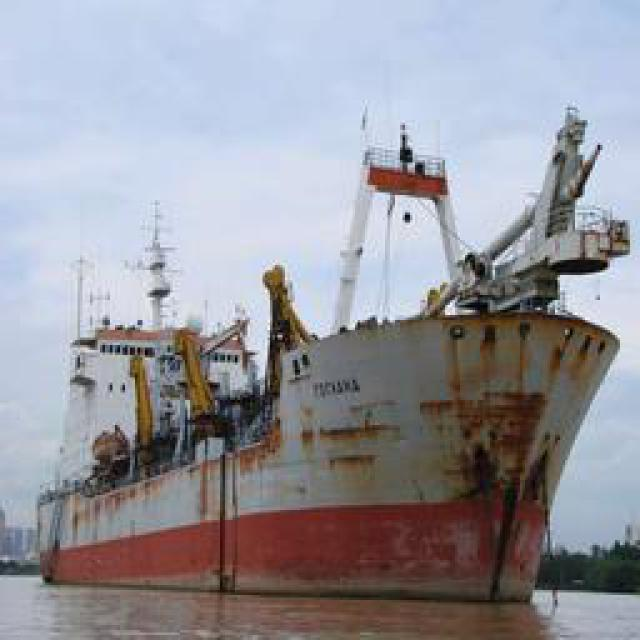Ship: (34, 126, 617, 606)
